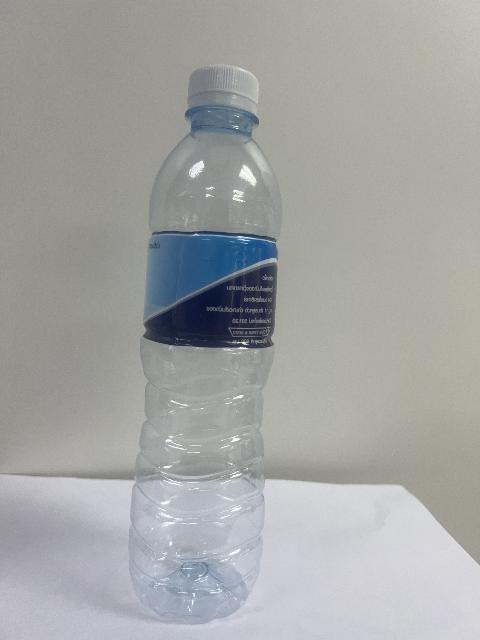bottle: (129, 65, 280, 623)
